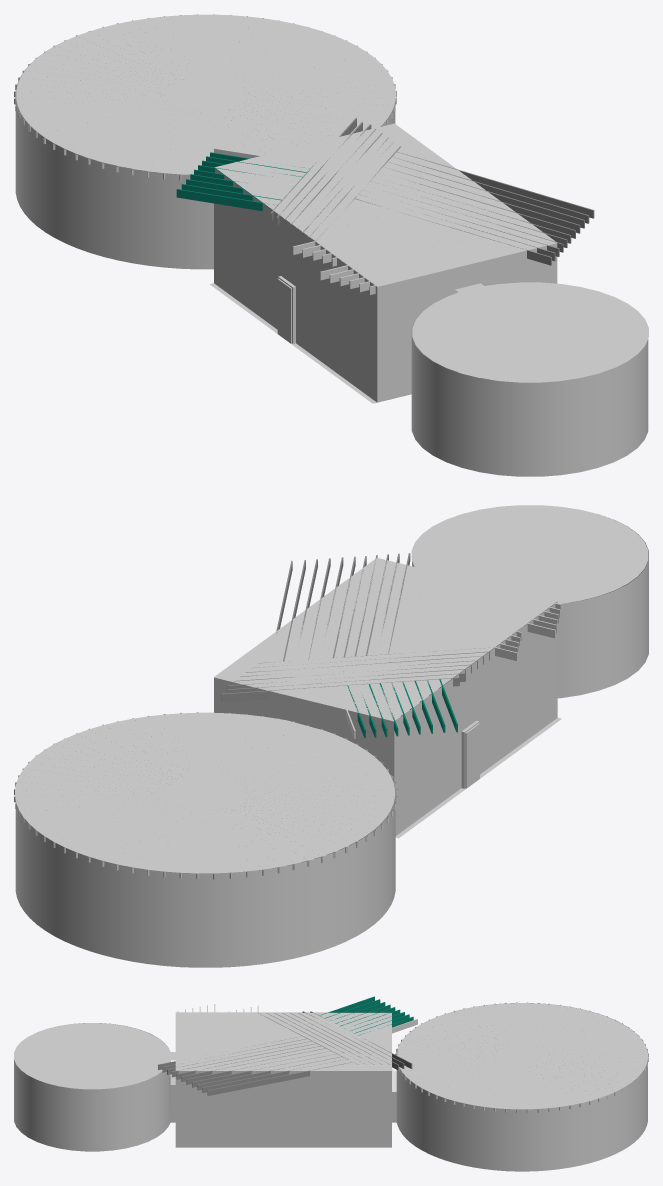
The model's file is pokoj_preze_3.FBX.
3 renders of one model, top to bottom at view 1: azimuth 30°, elevation 25°; view 2: azimuth 150°, elevation 25°; view 3: azimuth 270°, elevation 25°, orthographic. The views are drawn at different scales.
Visible parts, largest first — view 1: sufit1, sufit_lobby, lobby, Cylinder_pokoj2, sufit_2, Cylinder004, deska029, drzwi, deska028, podloga, deska018, deska027 (+1 smaller); view 2: sufit1, Cylinder004, sufit_lobby, lobby, sufit_2, Cylinder_pokoj2, drzwi, podloga, deska007; view 3: sufit1, Cylinder004, lobby, sufit_lobby, Cylinder_pokoj2, sufit_2, deska029, deska028, deska027, deska026, deska025.
Part boxes in pixels (x1,y1,x2,y2): sufit1: [16, 14, 395, 174]; sufit_lobby: [215, 123, 556, 286]; lobby: [214, 168, 557, 402]; Cylinder_pokoj2: [411, 303, 648, 476]; sufit_2: [412, 282, 648, 382]; Cylinder004: [15, 38, 395, 269]; deska029: [397, 152, 594, 218]; drzwi: [277, 277, 292, 343]; deska028: [394, 157, 589, 223]; podloga: [52, 142, 559, 403]; deska018: [176, 189, 277, 211]; deska027: [388, 162, 584, 228]; sufit1: [15, 712, 394, 873]; Cylinder004: [15, 721, 395, 967]; sufit_lobby: [214, 558, 556, 721]; lobby: [214, 601, 557, 835]; sufit_2: [411, 505, 648, 603]; Cylinder_pokoj2: [412, 520, 648, 698]; drzwi: [464, 722, 479, 788]; podloga: [309, 602, 569, 860]; deska007: [221, 677, 459, 702]; sufit1: [397, 1003, 647, 1109]; Cylinder004: [396, 1003, 647, 1171]; lobby: [170, 1012, 396, 1147]; sufit_lobby: [175, 1013, 391, 1070]; Cylinder_pokoj2: [14, 1023, 170, 1151]; sufit_2: [14, 1023, 170, 1089]; deska029: [207, 1062, 352, 1095]; deska028: [202, 1059, 346, 1092]; deska027: [197, 1056, 342, 1090]; deska026: [192, 1054, 335, 1087]; deska025: [186, 1051, 330, 1084].
Bounding box in the file's own units: 1292 × 433 × 3229.
